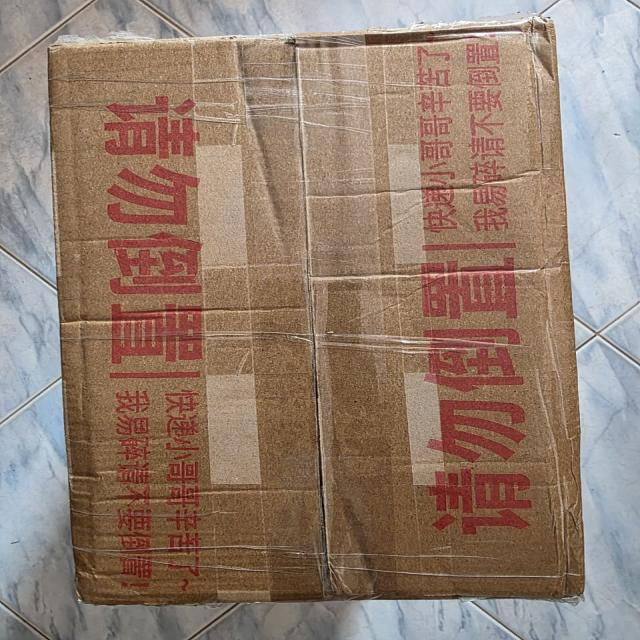carton_box: (33, 18, 599, 614)
package_damage: (288, 343, 354, 596), (250, 26, 492, 71)
